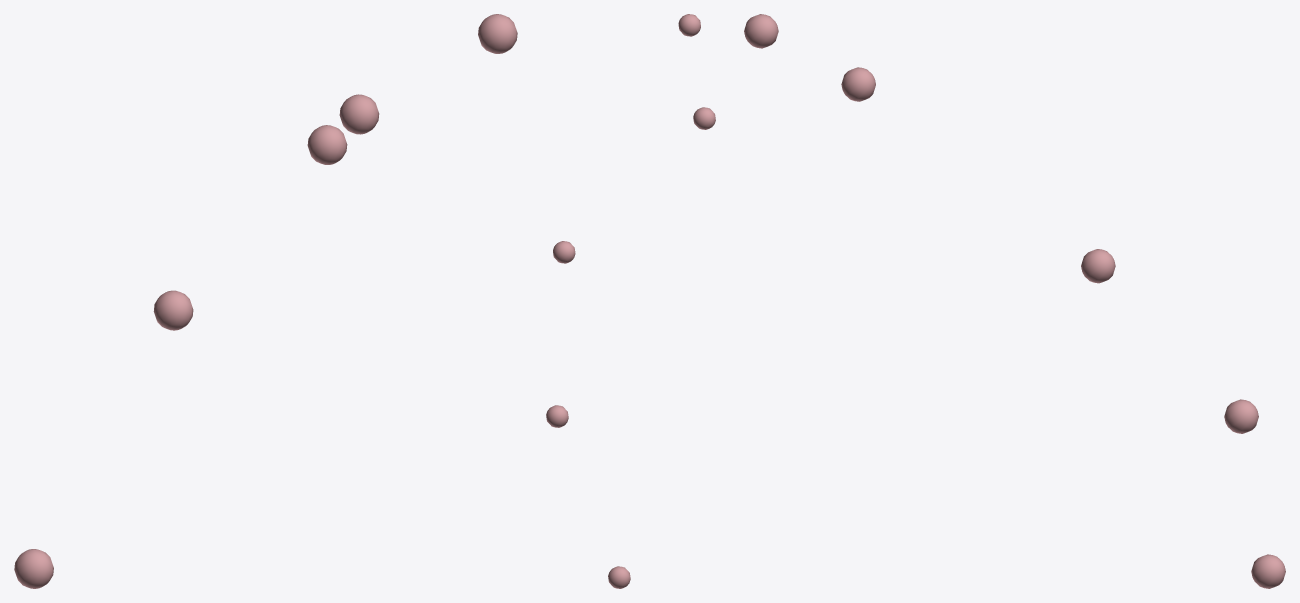
3 renders of one model, left to right at view 1: azimuth 30°, elevation 25°; view 2: azimuth 150°, elevation 25°; view 3: azimuth 270°, elevation 25°, orthographic. The views are drawn at different scales.
Parts seen in each view (by area): view 1: ZA_cf88bfe1f522cb8f; view 2: ZA_cf88bfe1f522cb8f; view 3: ZA_cf88bfe1f522cb8f.
Boxes of the visible parts, box(x1,y1,x2,y2) form: ZA_cf88bfe1f522cb8f: box(14, 14, 517, 588); ZA_cf88bfe1f522cb8f: box(546, 14, 715, 588); ZA_cf88bfe1f522cb8f: box(744, 14, 1285, 588).
Size of the model in its own units: 0.0171 by 0.0531 by 0.0406.
